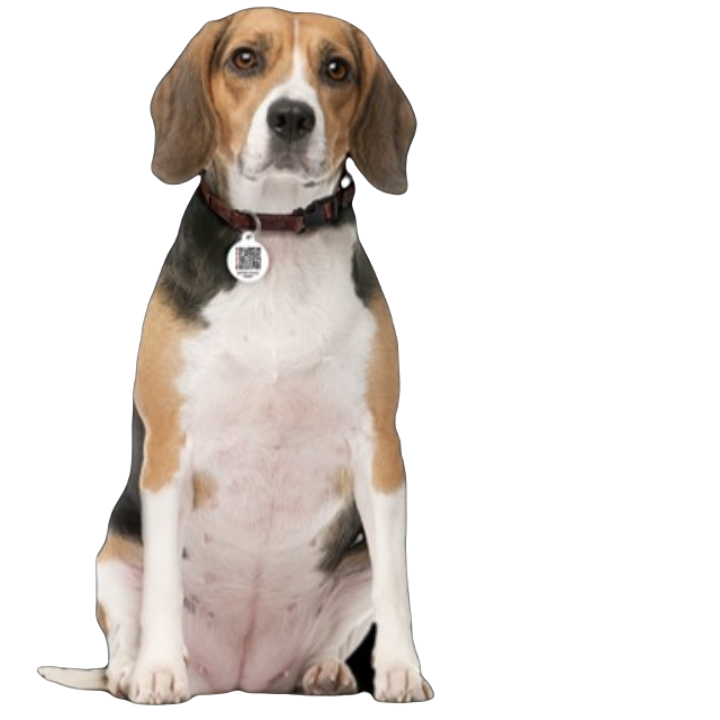Dog: (36, 2, 436, 703)
